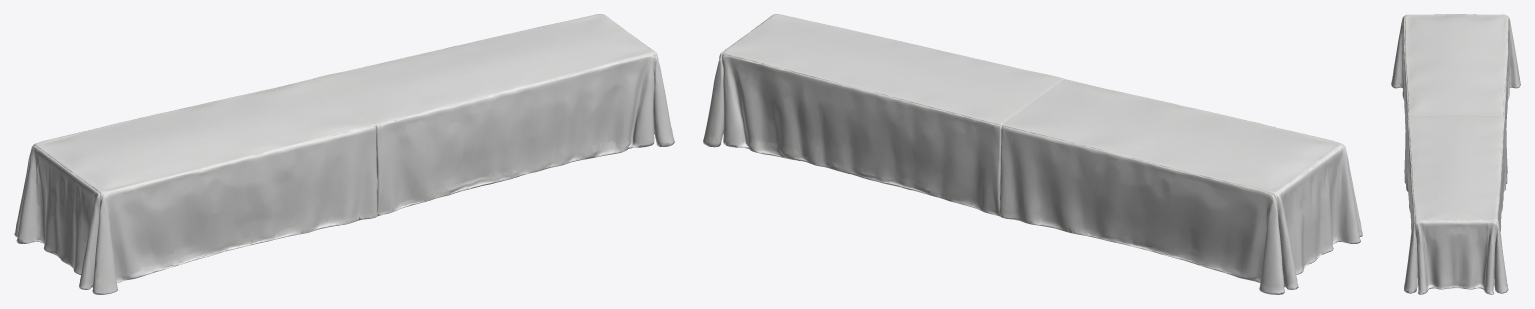
Rendered from table-knights-480.glb.
3 views of the same model, side by side, from view 1: azimuth 30°, elevation 25°; view 2: azimuth 150°, elevation 25°; view 3: azimuth 270°, elevation 25° (orthographic). The views are drawn at different scales.
Parts seen in each view (by area): view 1: tripo_node_b9cca676-82b8-4cf1-8911-c3046422ff4c; view 2: tripo_node_b9cca676-82b8-4cf1-8911-c3046422ff4c; view 3: tripo_node_b9cca676-82b8-4cf1-8911-c3046422ff4c.
Boxes of the visible parts, x1=… form: tripo_node_b9cca676-82b8-4cf1-8911-c3046422ff4c: x1=14, y1=14, x2=674, y2=294; tripo_node_b9cca676-82b8-4cf1-8911-c3046422ff4c: x1=703, y1=14, x2=1362, y2=294; tripo_node_b9cca676-82b8-4cf1-8911-c3046422ff4c: x1=1391, y1=14, x2=1520, y2=294.
Size of the model in its own units: 4.8 by 0.7499 by 1.2.
Materials: 1 (1 with a texture image).
